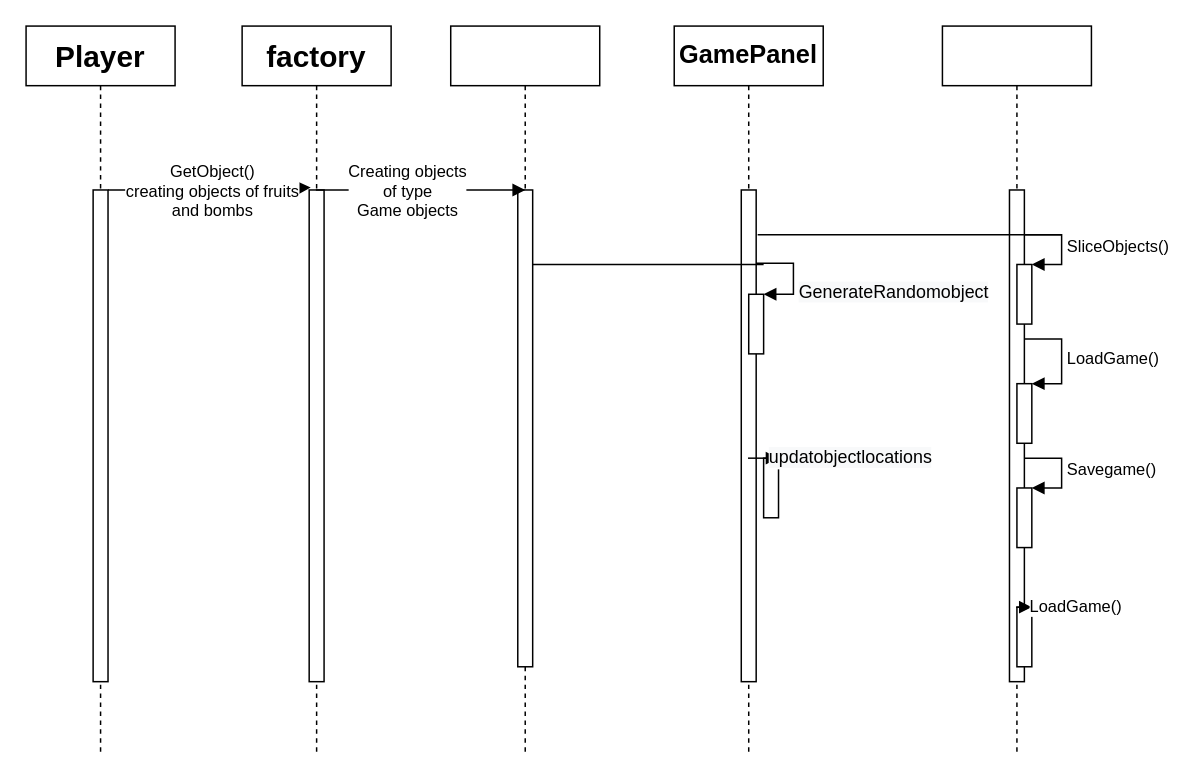
Some shapes in this 1195 by 782 pixel diagram are drawn without their labels. The box of each missing label's shape, as (x1, y1, x2, y2) in pixels:
GameObjects: (449, 25, 600, 756)
objectMovement: (941, 25, 1091, 756)
